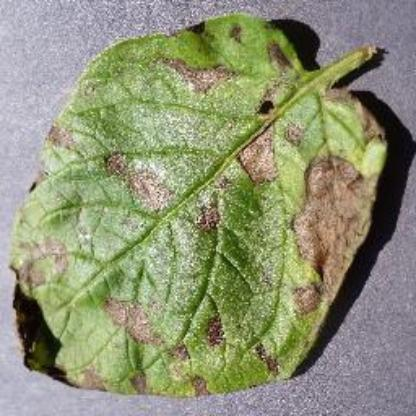Early-Blight: (8, 10, 394, 402)
